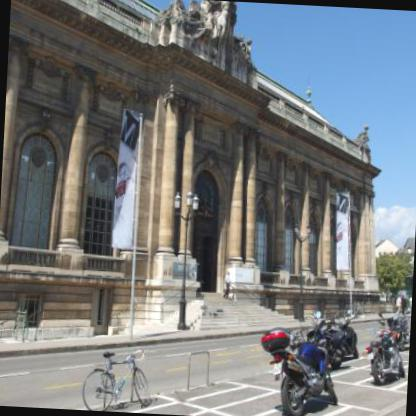motorcycle: (267, 312, 343, 415), (372, 324, 409, 394)
